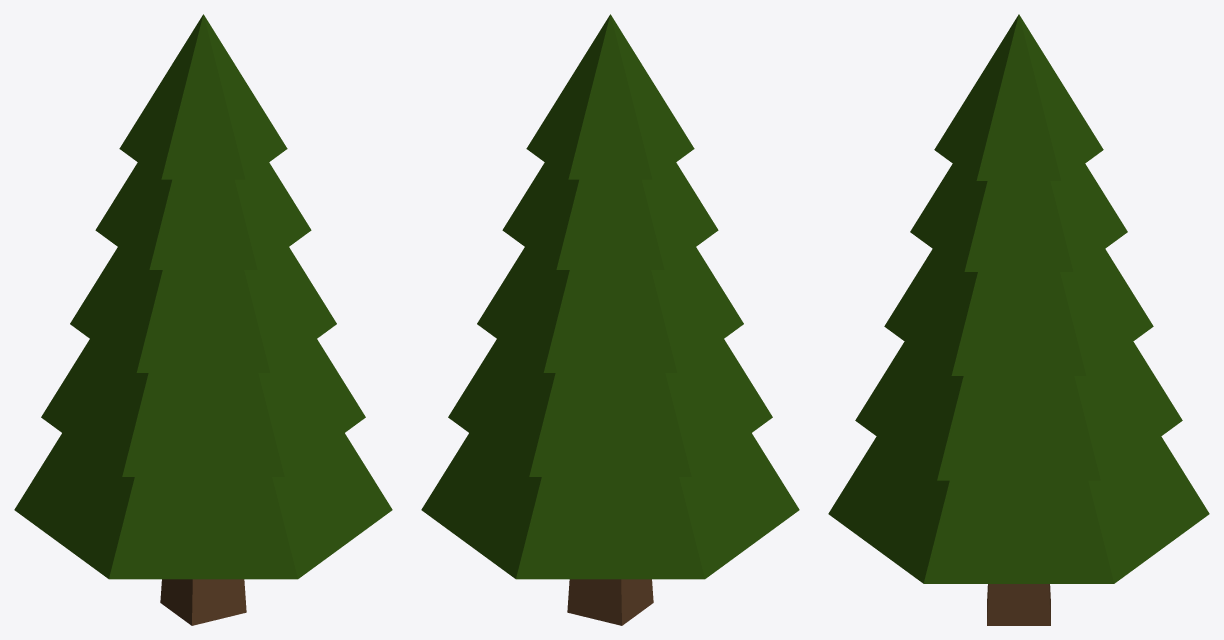
File: PR_pineTreeVar1_01.fbx
3 renders of one model, left to right at view 1: azimuth 30°, elevation 25°; view 2: azimuth 150°, elevation 25°; view 3: azimuth 270°, elevation 25°, orthographic.
Visible parts, largest first — view 1: Cone.002, PR_pineTreeVar1_01; view 2: Cone.002, PR_pineTreeVar1_01; view 3: Cone.002, PR_pineTreeVar1_01.
Part boxes in pixels (<box>): Cone.002: <box>14,14,392,579</box>; PR_pineTreeVar1_01: <box>160,579,246,625</box>; Cone.002: <box>421,14,799,579</box>; PR_pineTreeVar1_01: <box>567,579,653,625</box>; Cone.002: <box>828,14,1209,583</box>; PR_pineTreeVar1_01: <box>987,584,1050,625</box>.
Size of the model in its own units: 301 by 602 by 348.
